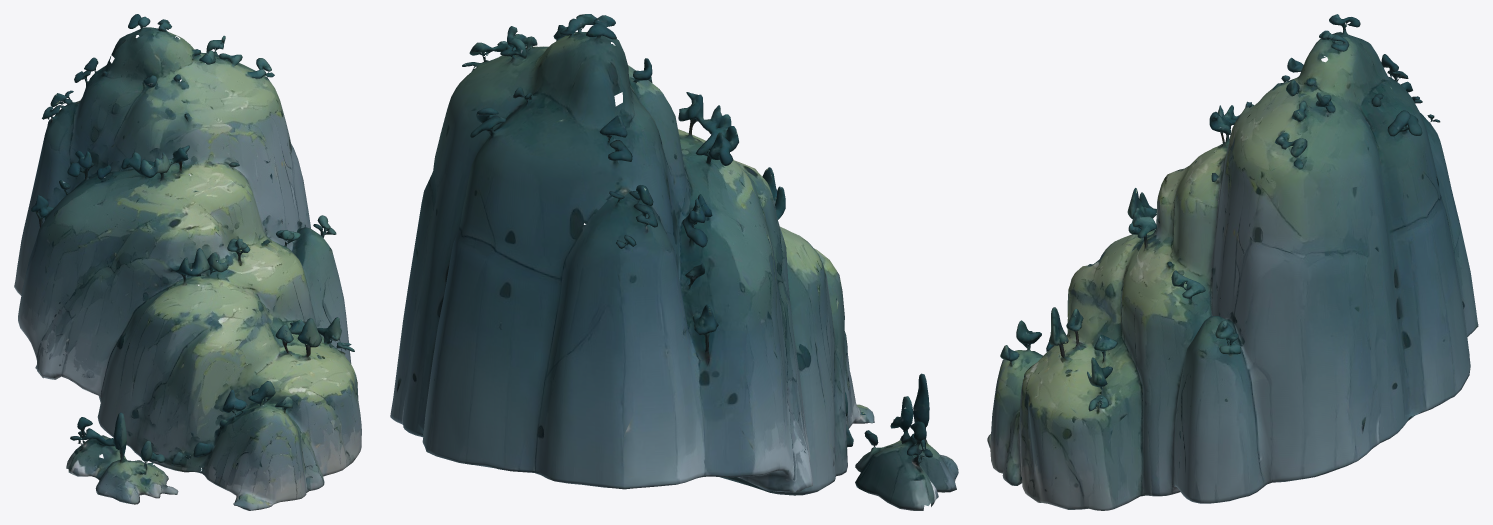
File: mountain3.glb
3 renders of one model, left to right at view 1: azimuth 30°, elevation 25°; view 2: azimuth 150°, elevation 25°; view 3: azimuth 270°, elevation 25°, orthographic. The views are drawn at different scales.
Parts seen in each view (by area): view 1: lod0; view 2: lod0; view 3: lod0.
Part boxes in pixels (x1=…): lod0: x1=14, y1=14, x2=361, y2=510; lod0: x1=390, y1=14, x2=958, y2=510; lod0: x1=987, y1=14, x2=1478, y2=510.
Size of what is drawn, in the model's own units: 0.8433 by 1 by 0.9942.
1 material, 1 textured.
